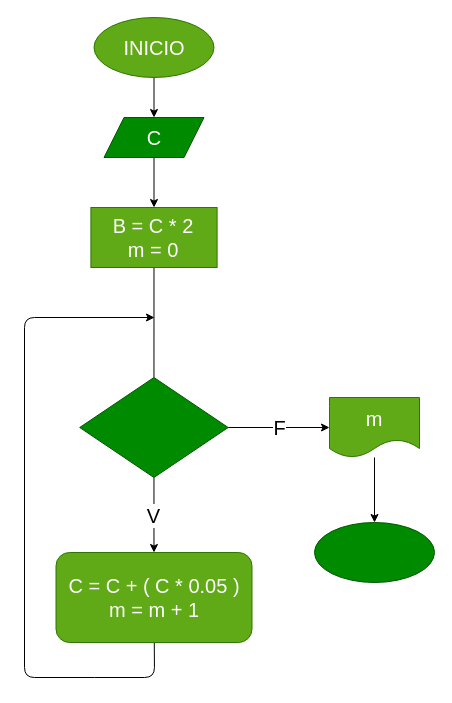
Image size: 452x703. Some labels were removed from this diagram. The box of each missing label's shape, as (x1, y1, x2, y2) in pixels:
C <= B: (79, 376, 228, 478)
FIN: (314, 522, 434, 582)
